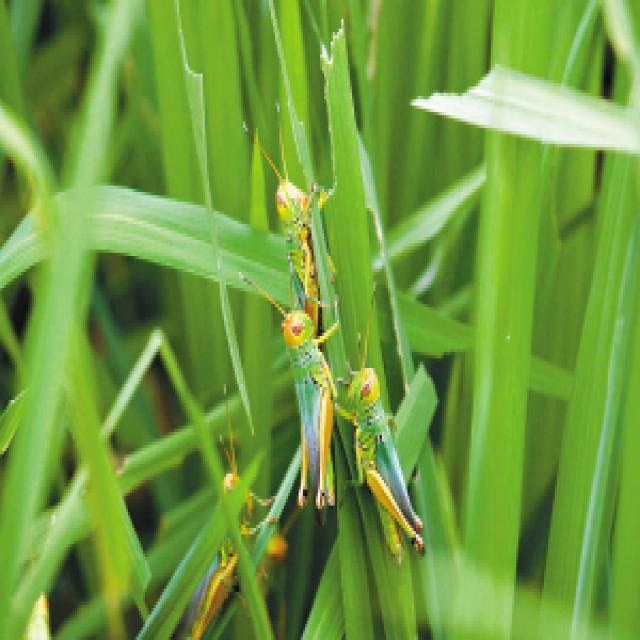ZhaMeng: (341, 354, 435, 561), (280, 294, 346, 518), (261, 128, 334, 328)
